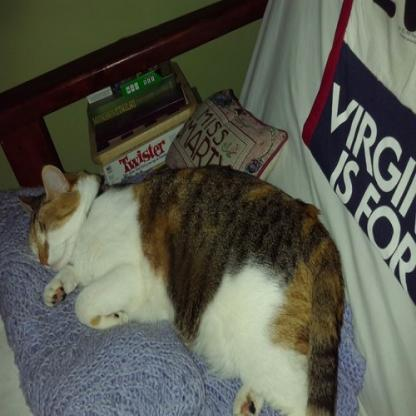Target: (24, 159, 349, 416)
